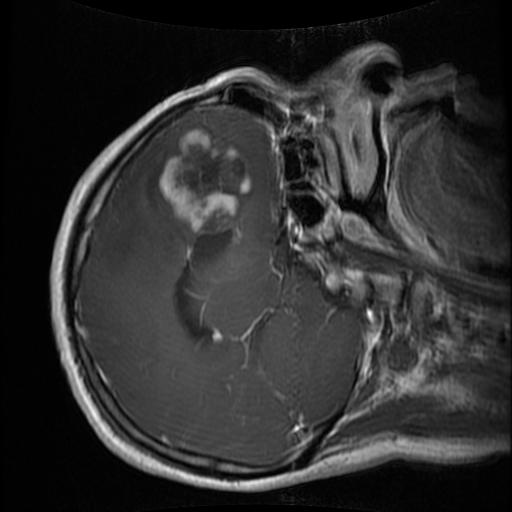glioma: (157, 126, 251, 264)
